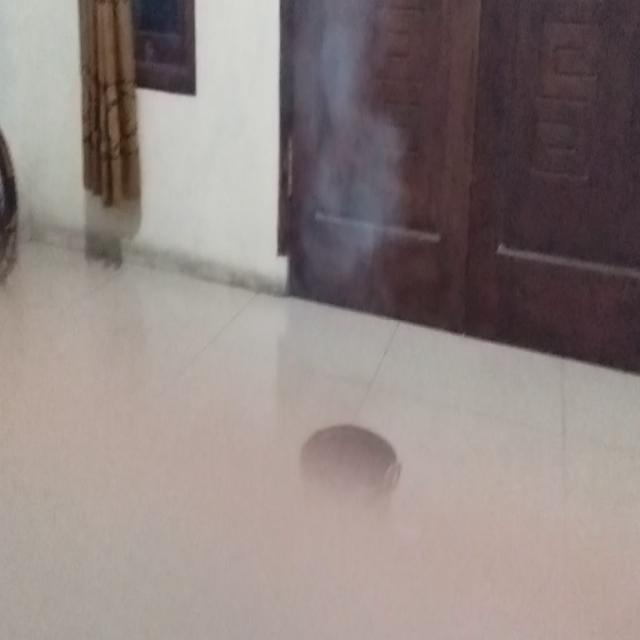smoke: (193, 64, 409, 330)
